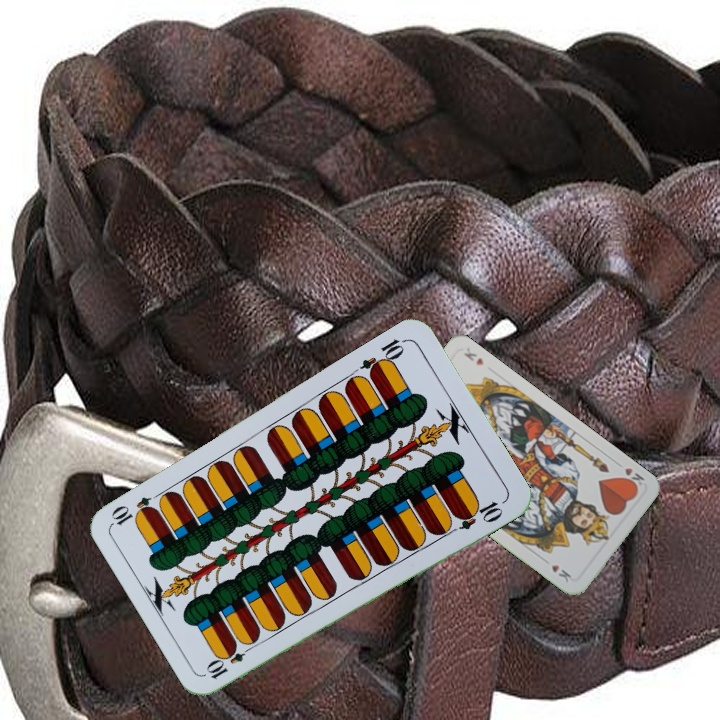E10: (356, 334, 410, 380), (203, 639, 257, 682)
HK: (618, 463, 647, 492)
